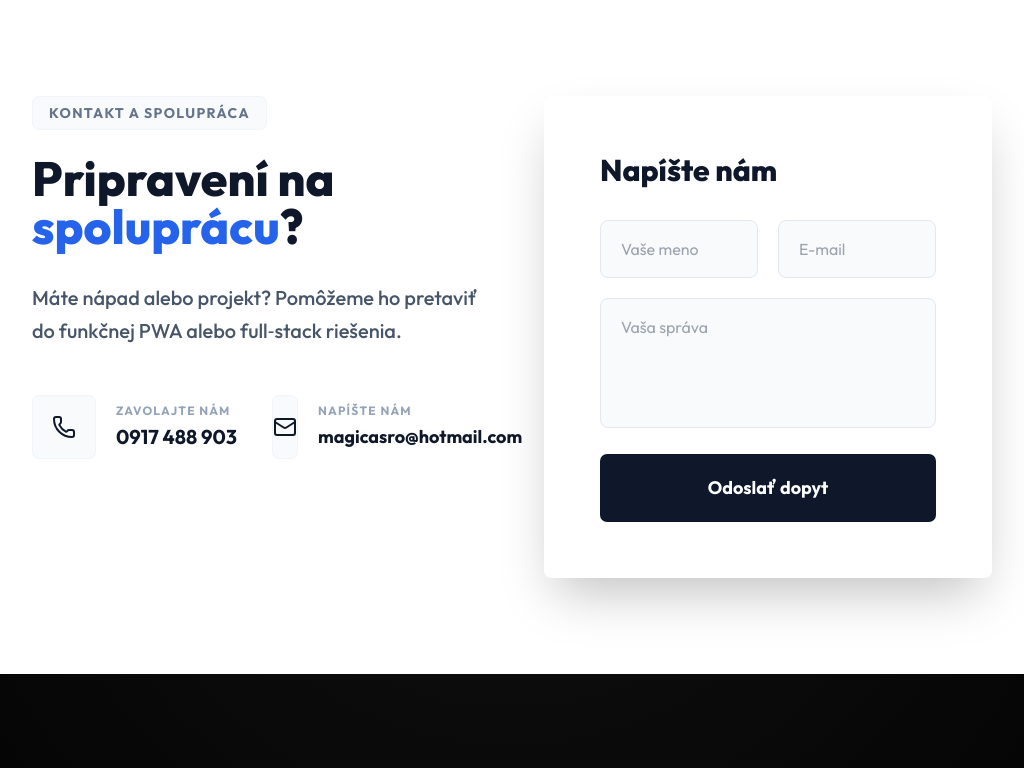
it: Contact Section › shows success message after simulated submit
The image size is (1024, 768).
// Simulate user input
Type "Test User" into the field with placeholder "Vaše meno" at (679, 249), box [600,220,758,278]
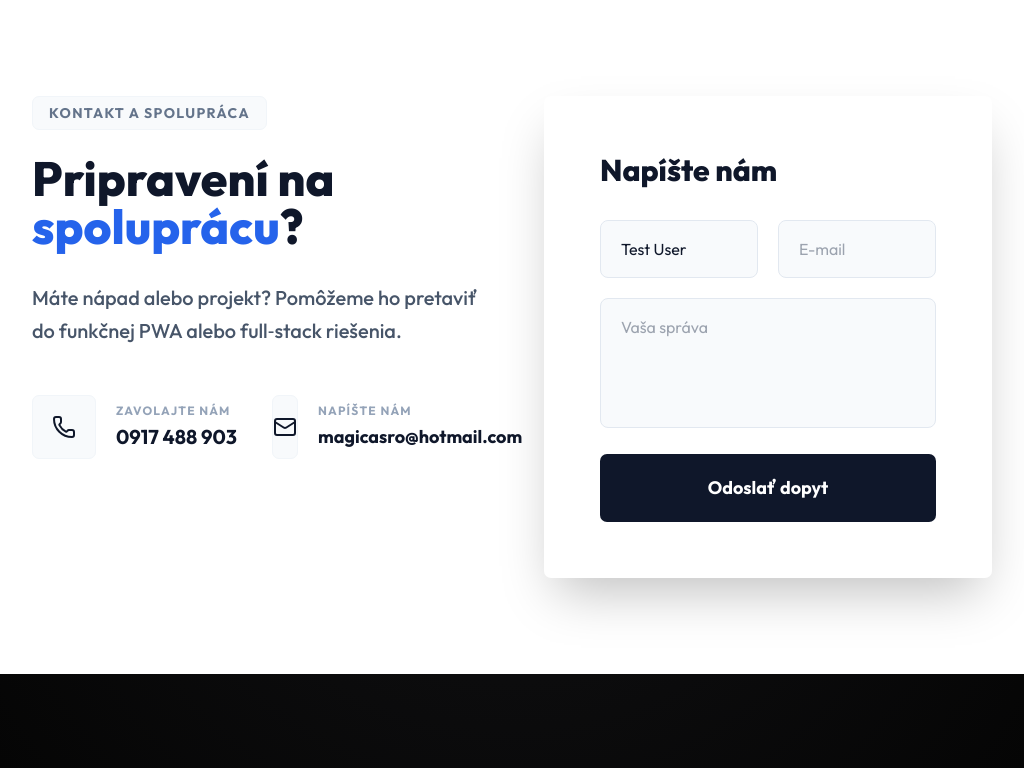
Type "test@example.com" into the field with placeholder "E-mail" at (857, 249), box [778,220,936,278]
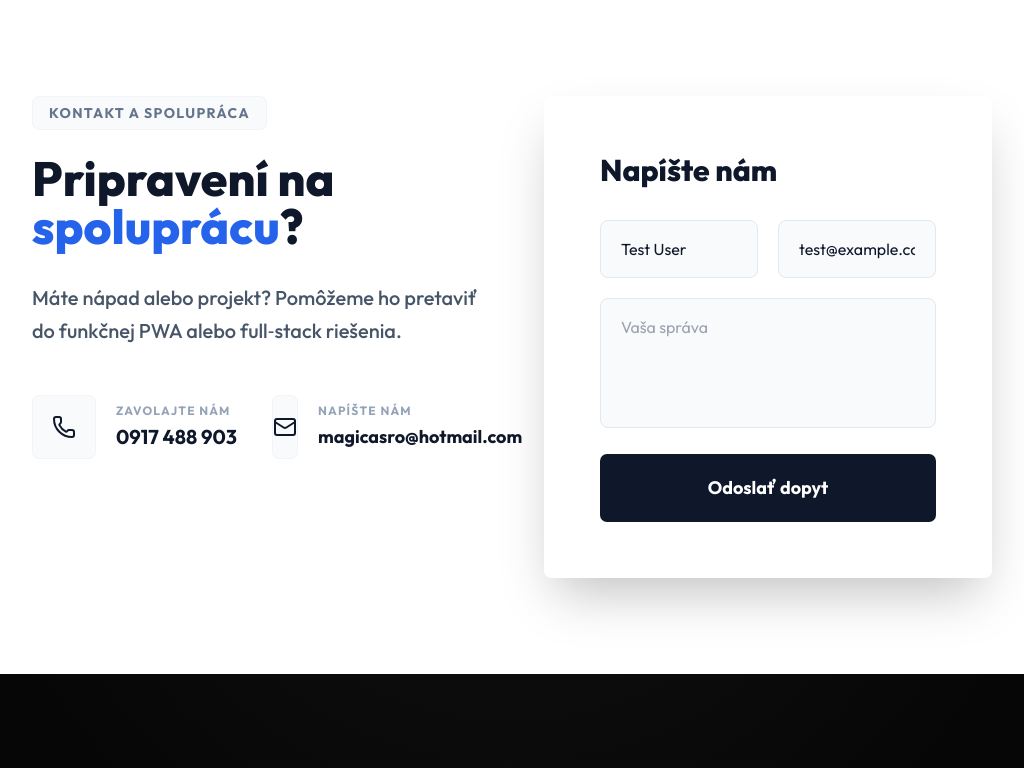
Type "Hello AI" into the text box with placeholder "Vaša správa" at (768, 363), box [600,298,936,428]
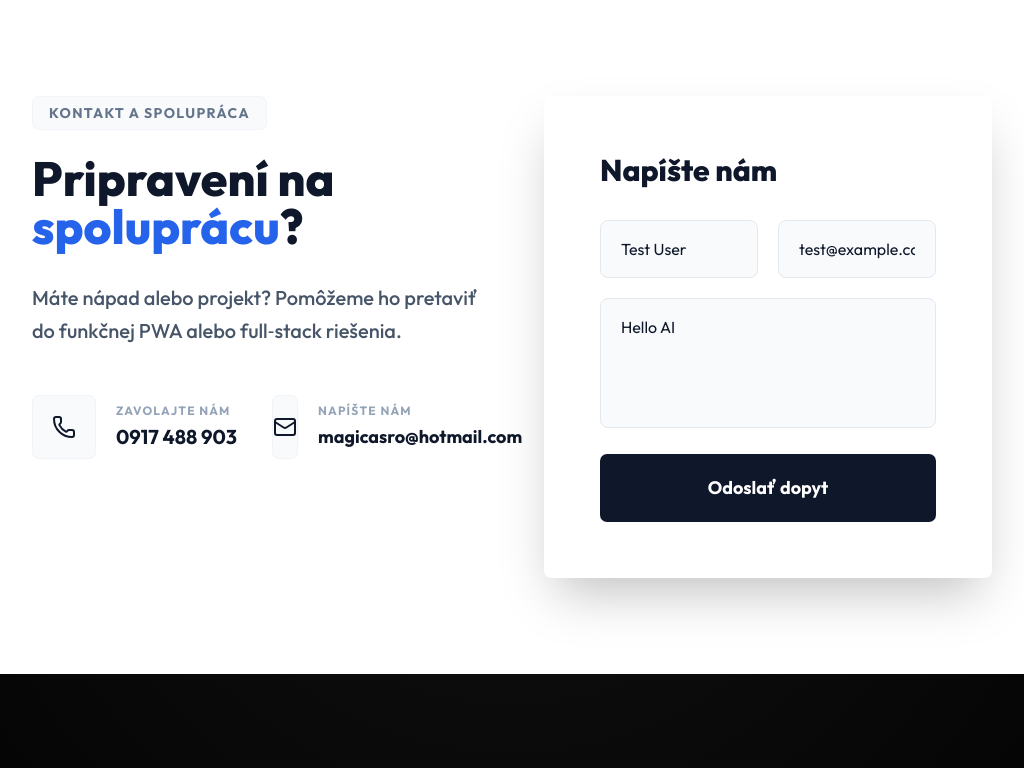
Click the button "Odoslať dopyt" at (768, 488), box [600,454,936,522]
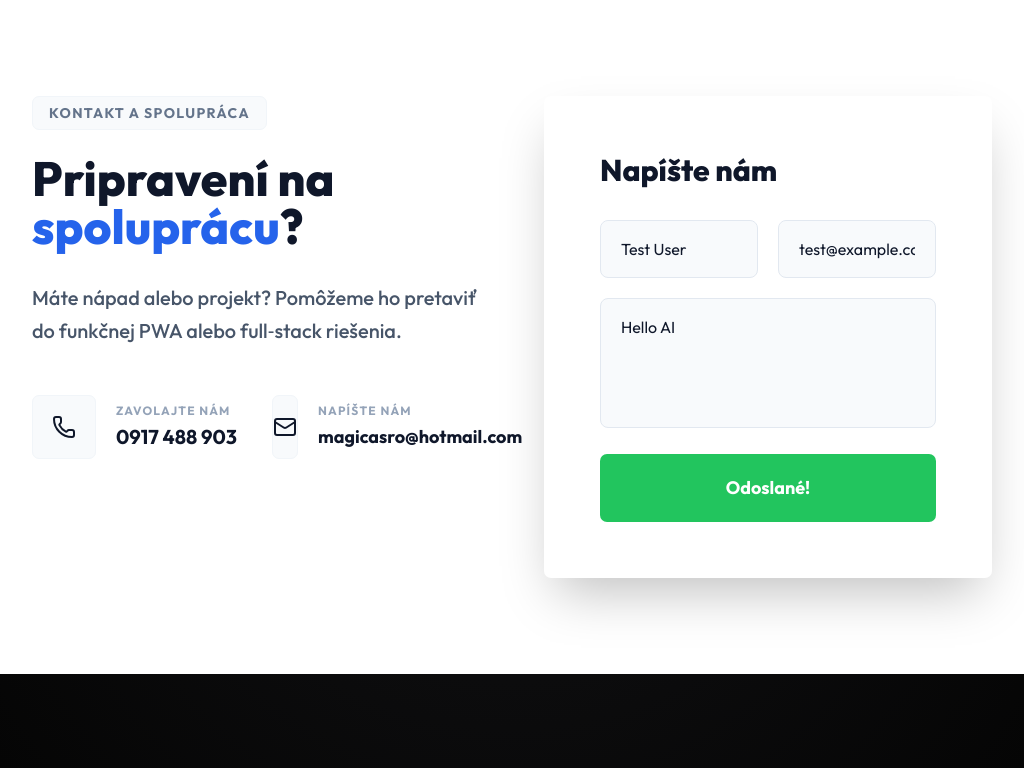
Now the button is disabled, box [600,454,936,522]
